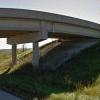Bridge: (3, 2, 94, 59)
